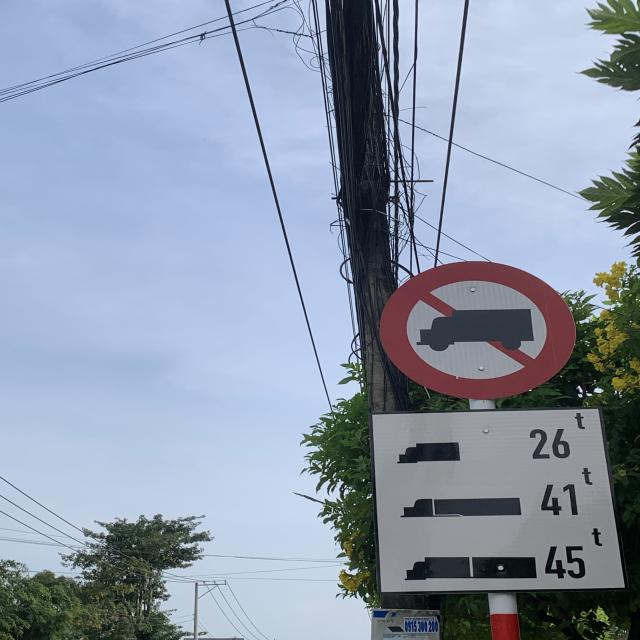Cam_Xe_Tai: (376, 258, 574, 402)
